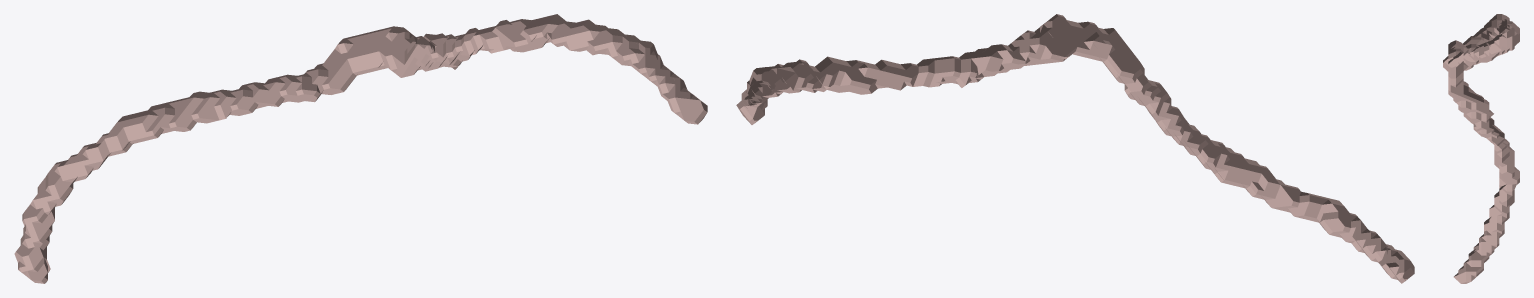
File: region_0017_Ccer__cerebellar_commissure_.glb
3 views of the same model, side by side, from view 1: azimuth 30°, elevation 25°; view 2: azimuth 150°, elevation 25°; view 3: azimuth 270°, elevation 25° (orthographic). The views are drawn at different scales.
Visible parts, largest first — view 1: world; view 2: world; view 3: world.
Part boxes in pixels (x1,y1,x2,y2): world: (14,14,707,283); world: (736,14,1414,283); world: (1443,14,1519,283).
Size of the model in its own units: 0.856 by 0.208 by 0.12.
